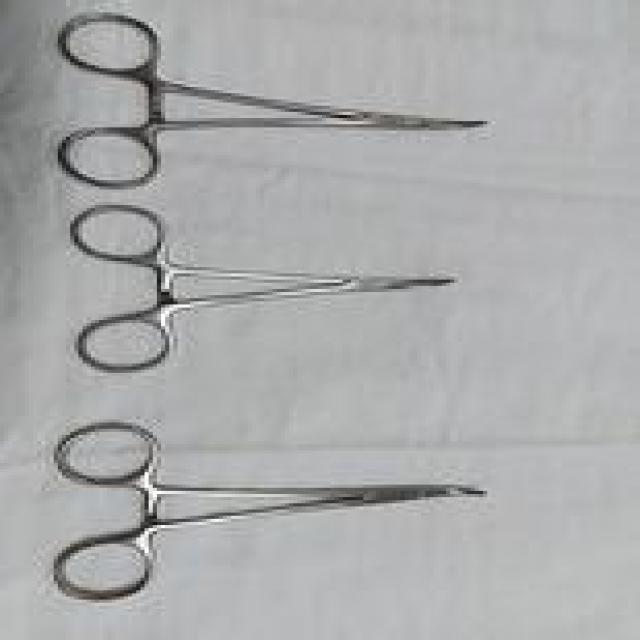Hemostat: (49, 419, 492, 609), (49, 9, 492, 193), (66, 202, 463, 379)
